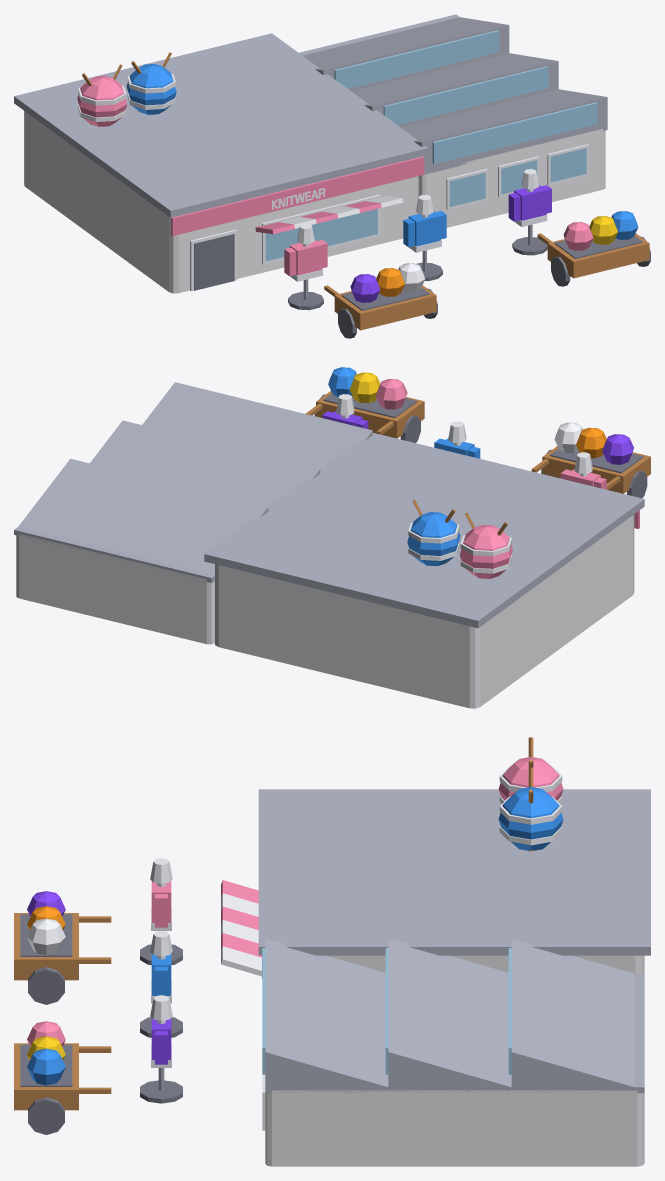
File: knitwear-factory-2x2-t2-tone-a.glb
3 renders of one model, top to bottom at view 1: azimuth 30°, elevation 25°; view 2: azimuth 150°, elevation 25°; view 3: azimuth 270°, elevation 25°, orthographic. The views are drawn at different scales.
Visible parts, largest first — view 1: knitwear-factory-2x2-t2-tone-a; view 2: knitwear-factory-2x2-t2-tone-a; view 3: knitwear-factory-2x2-t2-tone-a.
Part boxes in pixels (left/top/right/bottom): knitwear-factory-2x2-t2-tone-a: left=14, top=14, right=650, bottom=338; knitwear-factory-2x2-t2-tone-a: left=14, top=367, right=650, bottom=708; knitwear-factory-2x2-t2-tone-a: left=14, top=737, right=650, bottom=1166.
Bounding box in the file's own units: 1.96 × 0.5944 × 1.97.
Materials: 1 (1 with a texture image).
